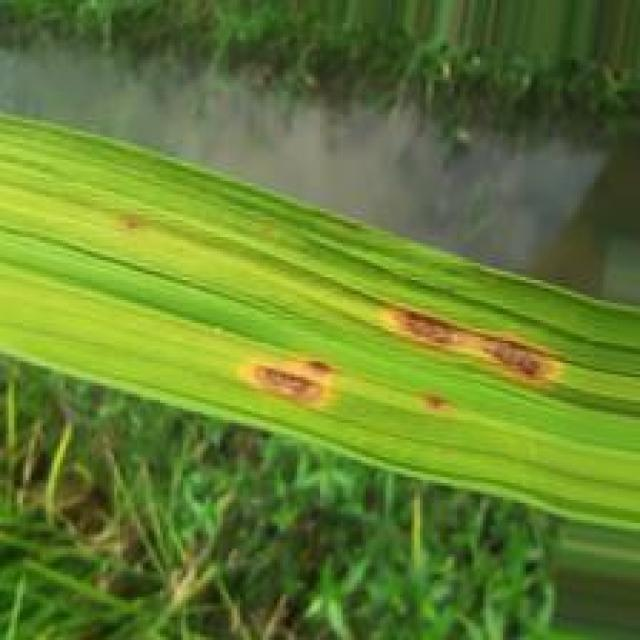Narrow_Brown_Leaf_Spot: (373, 299, 576, 399), (226, 341, 360, 417), (413, 386, 465, 419)
